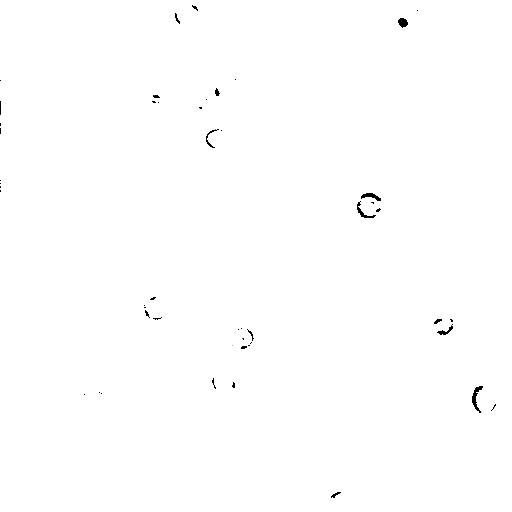micro-algae: (307, 103, 403, 199), (63, 397, 123, 456), (83, 377, 118, 416), (471, 379, 501, 414), (383, 5, 414, 36), (218, 69, 249, 100), (494, 295, 511, 349), (186, 88, 217, 117), (143, 290, 170, 319), (355, 192, 385, 218), (324, 489, 356, 512), (172, 3, 201, 28), (309, 35, 331, 65), (406, 4, 433, 27), (203, 126, 230, 149), (212, 371, 237, 395), (229, 326, 255, 349), (432, 313, 455, 334), (1, 101, 13, 129)
